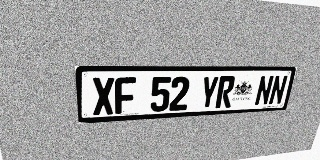2: (169, 76, 190, 111)
5: (150, 77, 171, 112)
F: (115, 77, 136, 114)
N: (254, 75, 274, 106), (268, 75, 288, 105)
R: (215, 76, 236, 108)
X: (92, 77, 114, 115)
Y: (199, 76, 219, 109)
